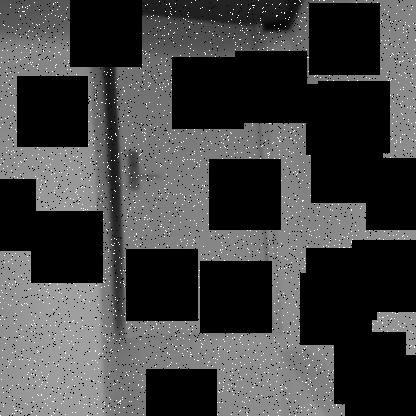Porte: (95, 12, 284, 342)
